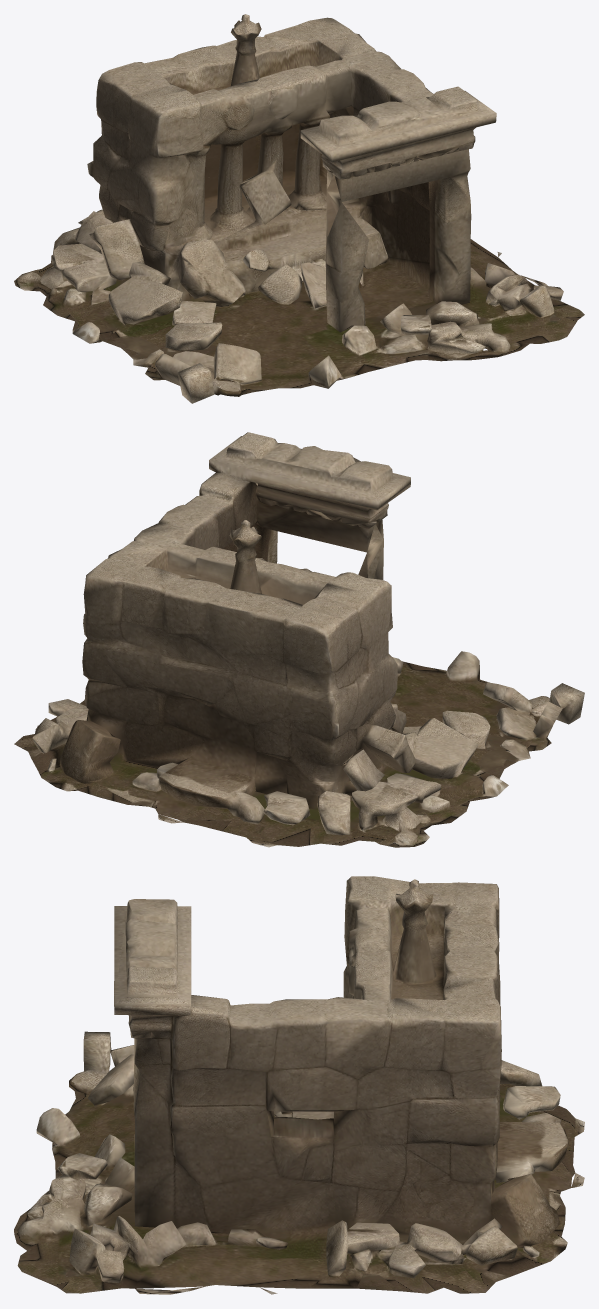
File: rubble.glb
3 views of the same model, one above another, from view 1: azimuth 30°, elevation 25°; view 2: azimuth 150°, elevation 25°; view 3: azimuth 270°, elevation 25° (orthographic). The views are drawn at different scales.
Size of the model in its own units: 1.9 by 1.09 by 1.89.
Materials: 1 (1 with a texture image).
